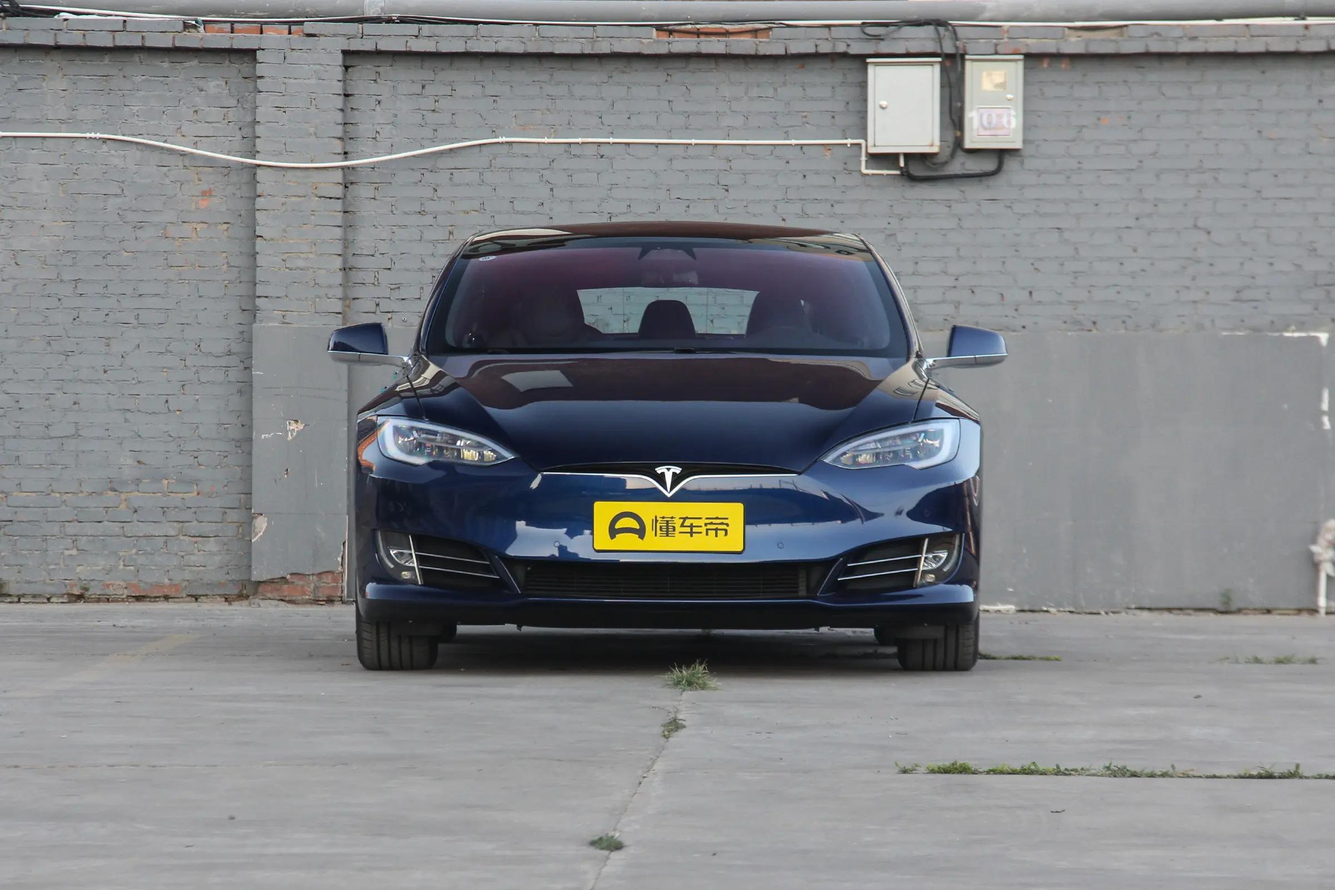Tesla: (655, 466, 683, 493)
